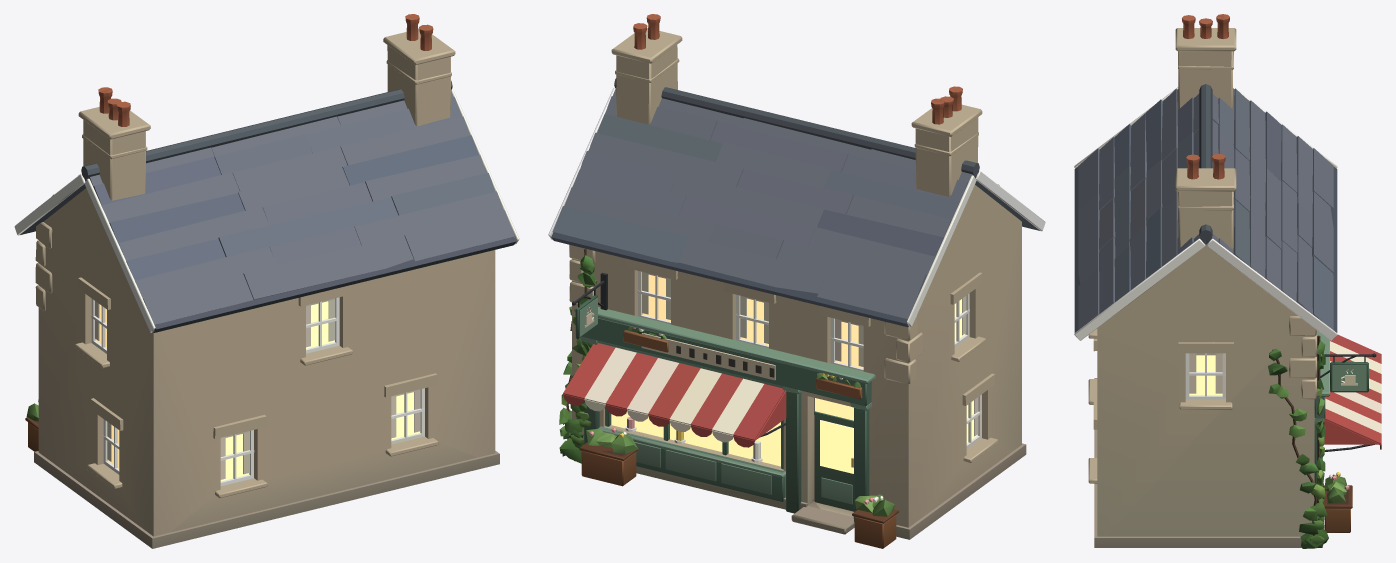
Rendered from cafe-hero.glb.
The picture shows the model from 3 angles, left to right: view 1: azimuth 30°, elevation 25°; view 2: azimuth 150°, elevation 25°; view 3: azimuth 270°, elevation 25°; orthographic projection. The views are drawn at different scales.
Visible parts, largest first — view 1: cafe-hero; view 2: cafe-hero; view 3: cafe-hero.
Part boxes in pixels (box(x1,y1,x2,y2)): cafe-hero: box(14, 14, 519, 548); cafe-hero: box(548, 14, 1045, 548); cafe-hero: box(1074, 14, 1381, 548).
Bounding box in the file's own units: 5.14 × 5.42 × 3.96.
